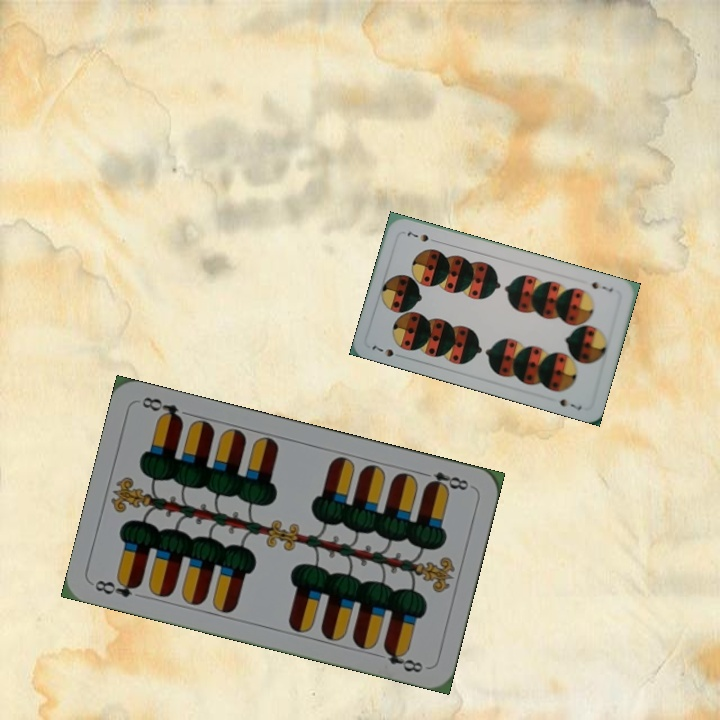E8: (416, 467, 472, 494), (91, 574, 143, 600)
S7: (368, 341, 396, 359), (587, 278, 616, 295)
